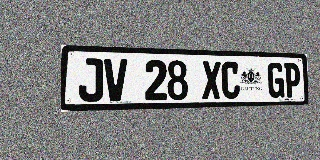2: (145, 60, 167, 101)
8: (167, 60, 188, 100)
C: (221, 61, 240, 99)
G: (267, 62, 284, 98)
J: (79, 58, 103, 102)
P: (284, 63, 301, 98)
V: (104, 59, 127, 101)
X: (202, 61, 221, 99)
